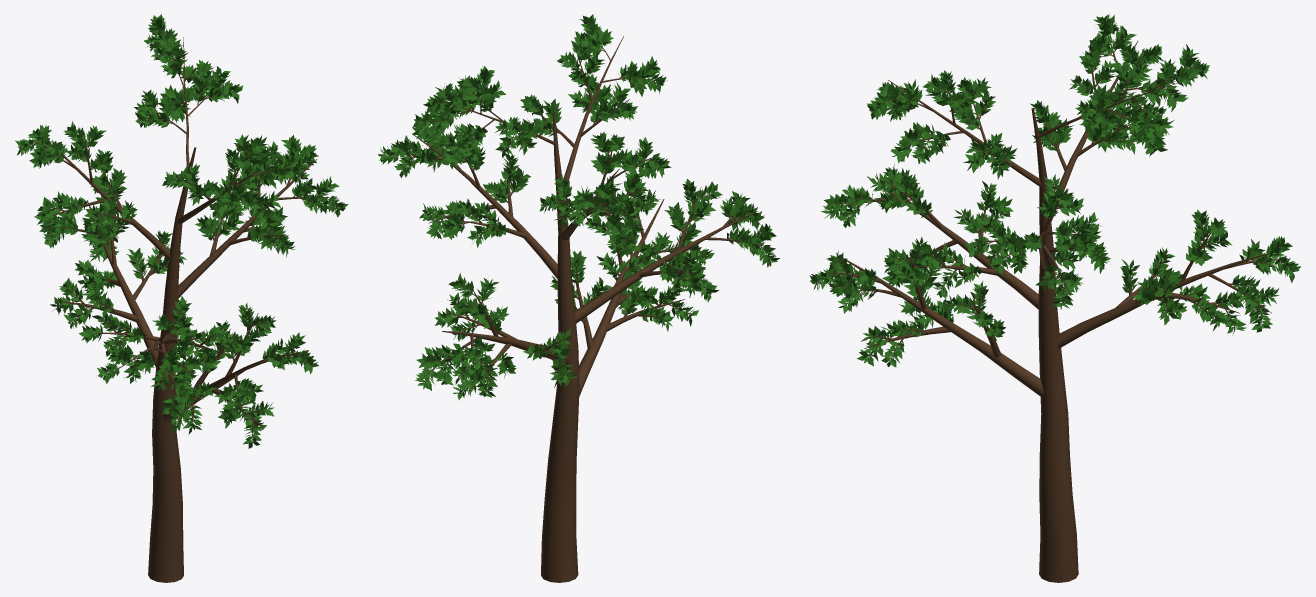
File: tree_broad.obj
3 views of the same model, side by side, from view 1: azimuth 30°, elevation 25°; view 2: azimuth 150°, elevation 25°; view 3: azimuth 270°, elevation 25° (orthographic). The views are drawn at different scales.
Bounding box in the file's own units: 5.46 × 8.72 × 7.01.
